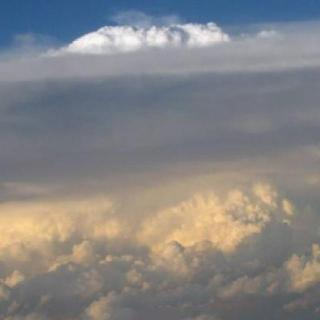Cumulonimbus: (24, 0, 320, 320)
